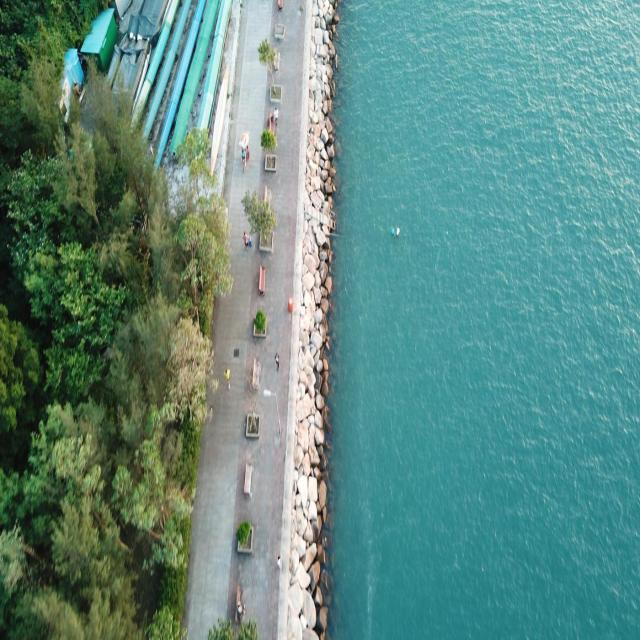person: (224, 367, 230, 390), (243, 230, 249, 250), (274, 353, 280, 371)
tree: (0, 48, 233, 638), (240, 187, 276, 251)
